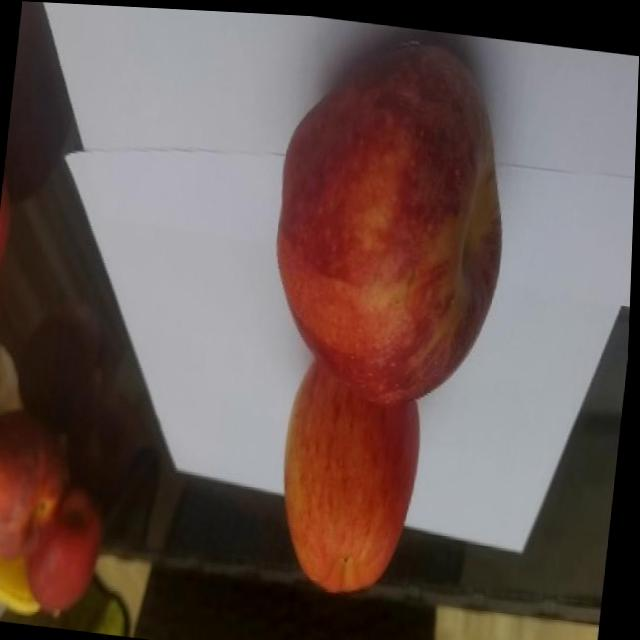Apple: (261, 20, 525, 412), (275, 352, 432, 597)
